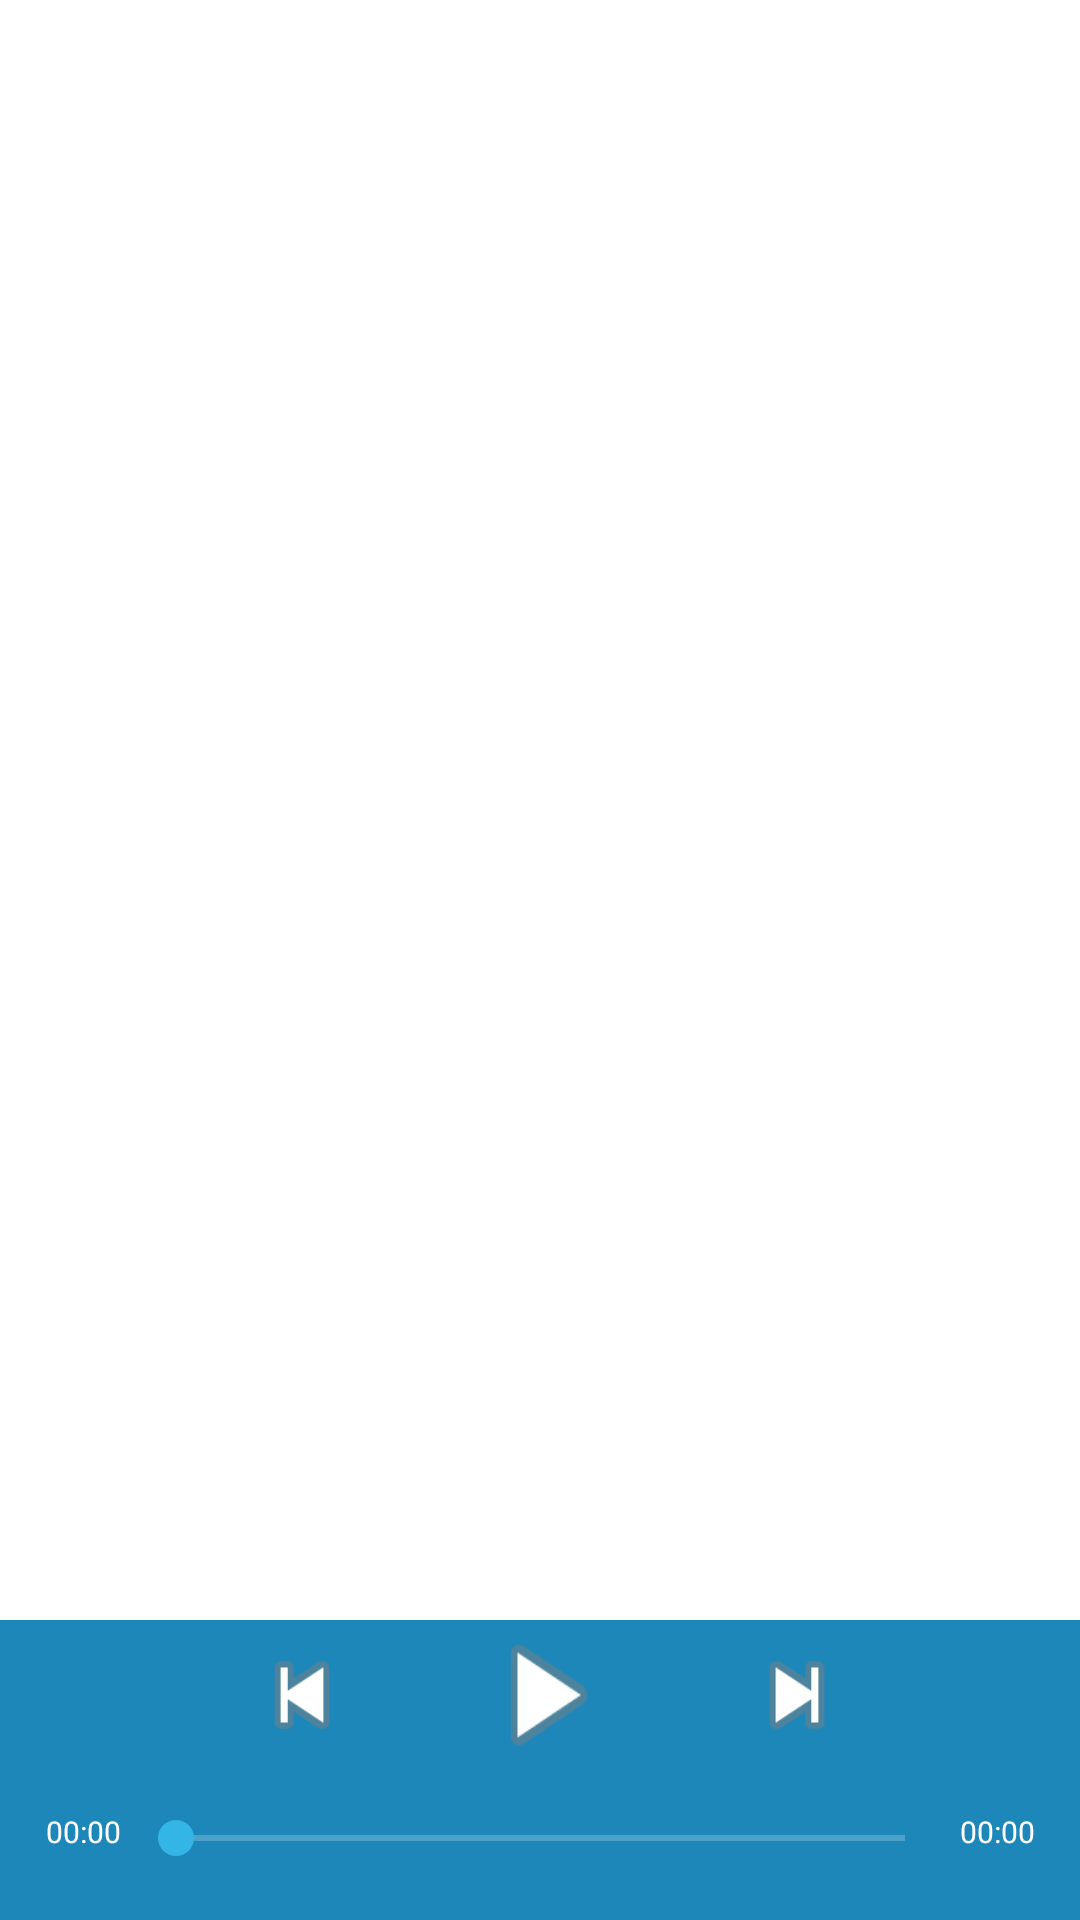

Icon bounding boxes for this 1080px x 1920px phone screenshot, format (x1, y1, x2, y2):
next: (770, 1661, 824, 1729)
play: (511, 1645, 587, 1745)
previous: (275, 1661, 329, 1729)
